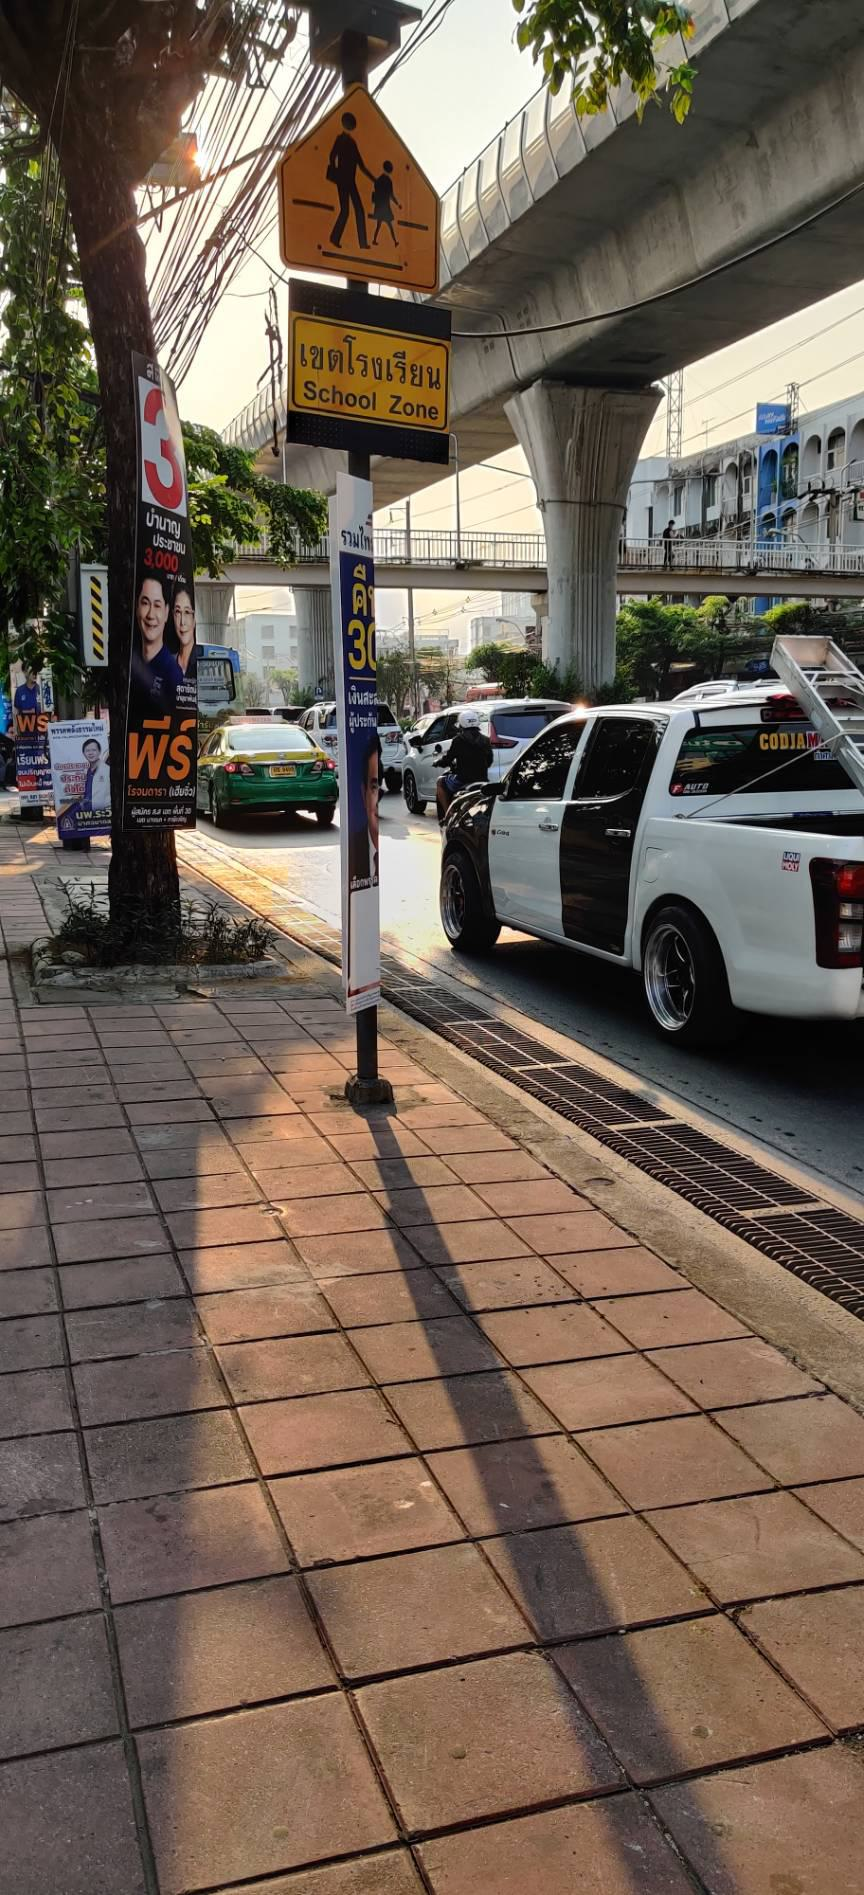Banner: (115, 383, 198, 836)
